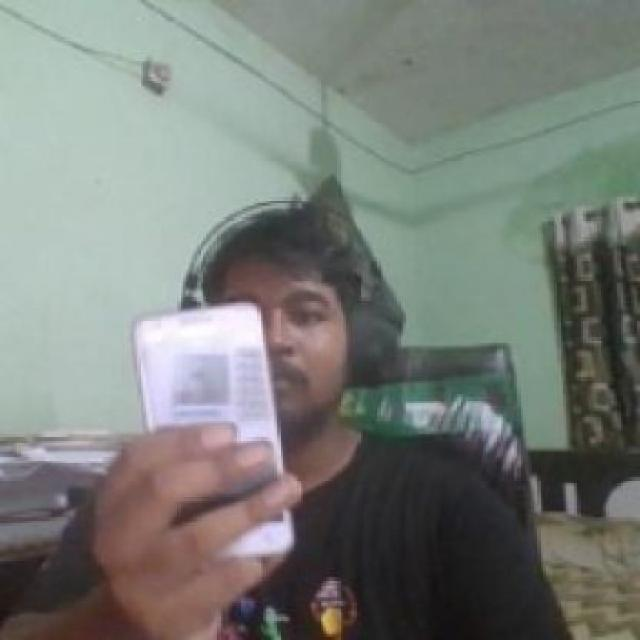Phone: (130, 302, 292, 557)
